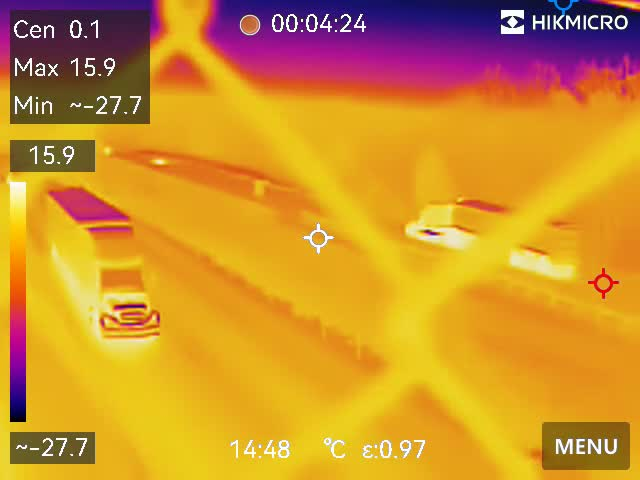heavyTruck: (42, 177, 175, 353), (402, 185, 579, 272)
